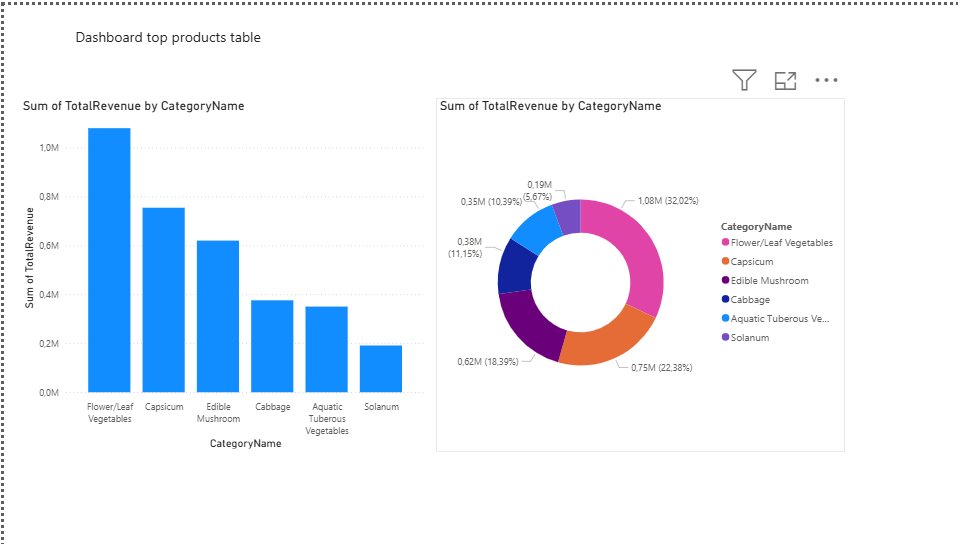

This screenshot's page, from the dashboard's own definition file:
{"tool":"powerbi","page":{"name":"Dashboard3","canvas":[1280,720],"ordinal":2},"visuals":[{"type":"columnChart","fields":{"Category":["top_products.CategoryName"],"Y":["Sum(top_products.TotalRevenue)"]},"box":[20,124,546,472],"z":0},{"type":"donutChart","fields":{"Category":["top_products.CategoryName"],"Y":["Sum(top_products.TotalRevenue)"]},"box":[576,124,546,472],"z":1},{"type":"textbox","box":[90,24,272,58],"z":2}]}

Visuals, with their boxes in screenshot pixels (x1, y1, x2, y2), scaled from the page's 1280x720 canvas onto the 961x544 screenshot:
columnChart - top_products.CategoryName x Sum(top_products.TotalRevenue): box(15, 94, 425, 450)
donutChart - top_products.CategoryName x Sum(top_products.TotalRevenue): box(432, 94, 842, 450)
textbox: box(68, 18, 272, 62)
